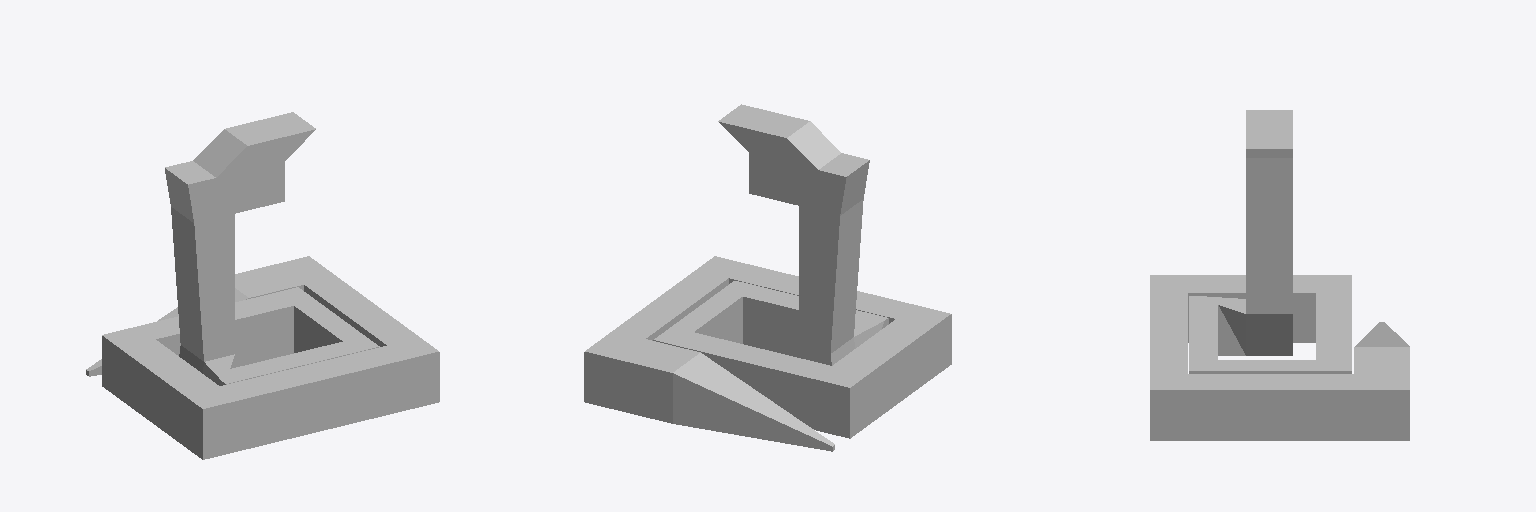
Rendered from snake.obj.
3 renders of one model, left to right at view 1: azimuth 30°, elevation 25°; view 2: azimuth 150°, elevation 25°; view 3: azimuth 270°, elevation 25°, orthographic.
Parts seen in each view (by area): view 1: Cube.002_Cube.003; view 2: Cube.002_Cube.003; view 3: Cube.002_Cube.003.
Boxes of the visible parts, box(x1,y1,x2,y2) form: Cube.002_Cube.003: box(86, 112, 439, 459); Cube.002_Cube.003: box(584, 104, 951, 451); Cube.002_Cube.003: box(1150, 110, 1409, 440).
Size of the model in its own units: 1.46 by 1.52 by 1.39.